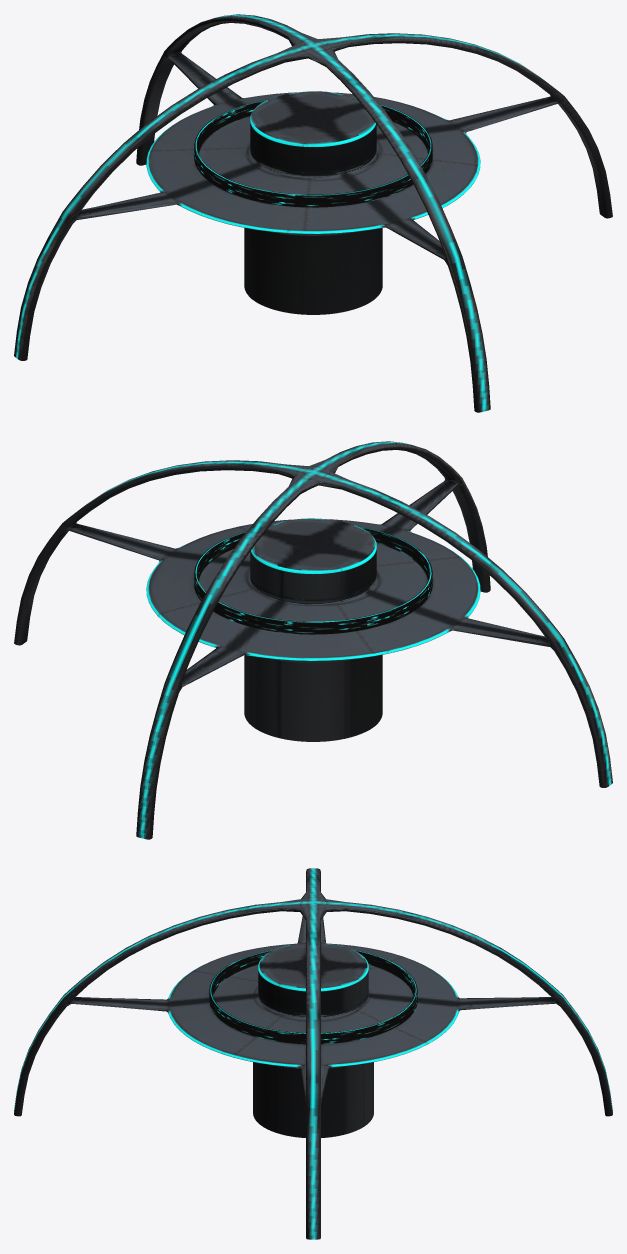
Rendered from Castle_a.gltf.
3 views of the same model, one above another, from view 1: azimuth 30°, elevation 25°; view 2: azimuth 150°, elevation 25°; view 3: azimuth 270°, elevation 25° (orthographic). The views are drawn at different scales.
Parts seen in each view (by area): view 1: Cylinder; view 2: Cylinder; view 3: Cylinder.
Boxes of the visible parts, x1,y1,x2,y2 form: Cylinder: (14,14,612,412); Cylinder: (14,441,612,839); Cylinder: (14,868,612,1239).
Size of the model in its own units: 59.85 by 23.27 by 59.85.
3 materials, 3 textured.
